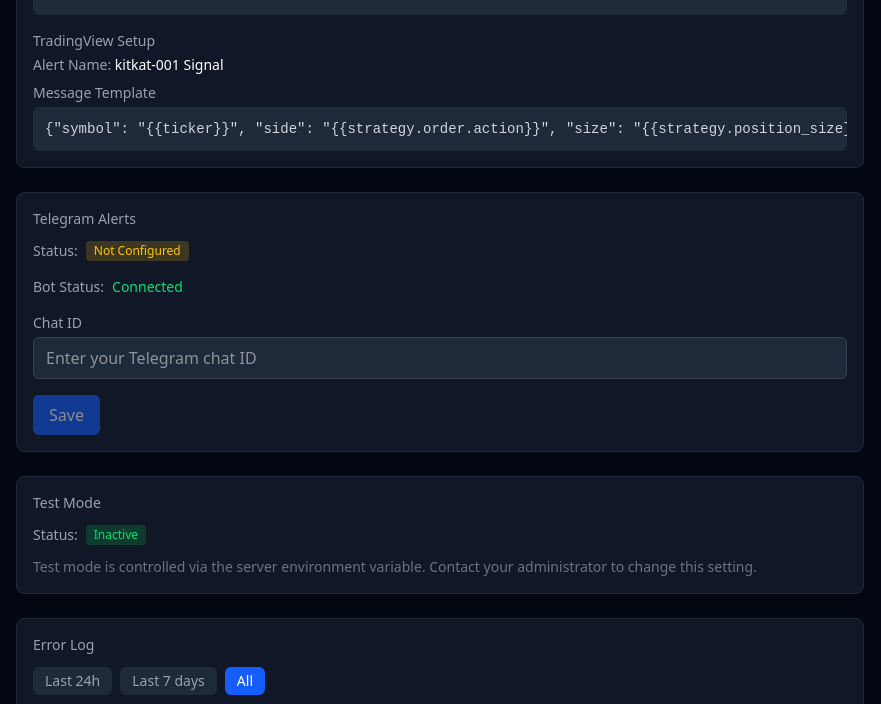
SettingsPage - Telegram Alerts › shows success message on successful telegram save
The width and height of the screenshot is (881, 704).
(page scrolled)
Type "123" into the field labelled "Chat ID" at coordinates (440, 358), box x1=33 y1=337 x2=847 y2=379
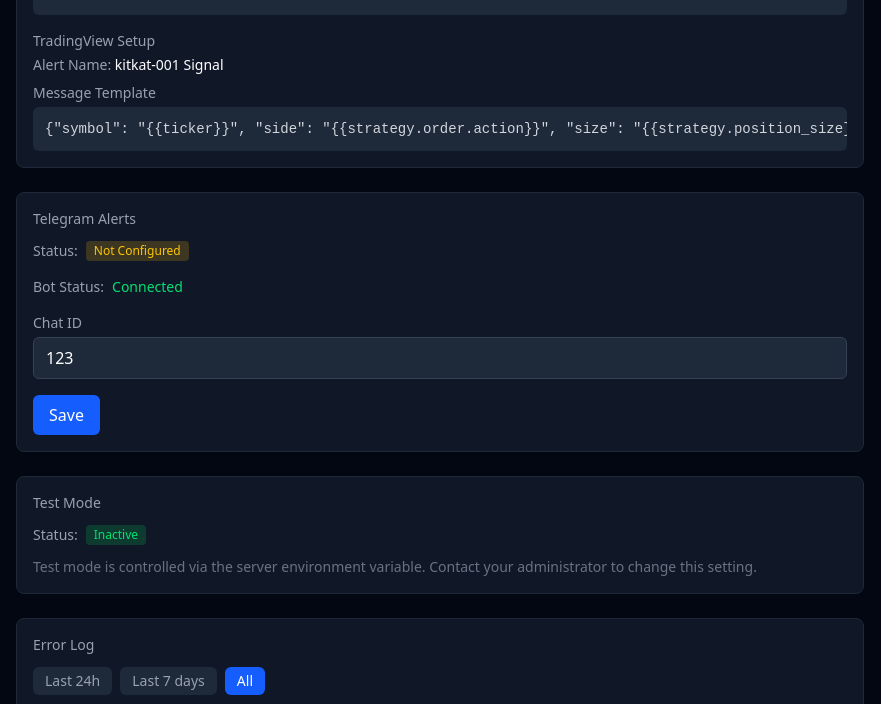
Click the button "Save" at coordinates (66, 415), box x1=33 y1=395 x2=100 y2=435
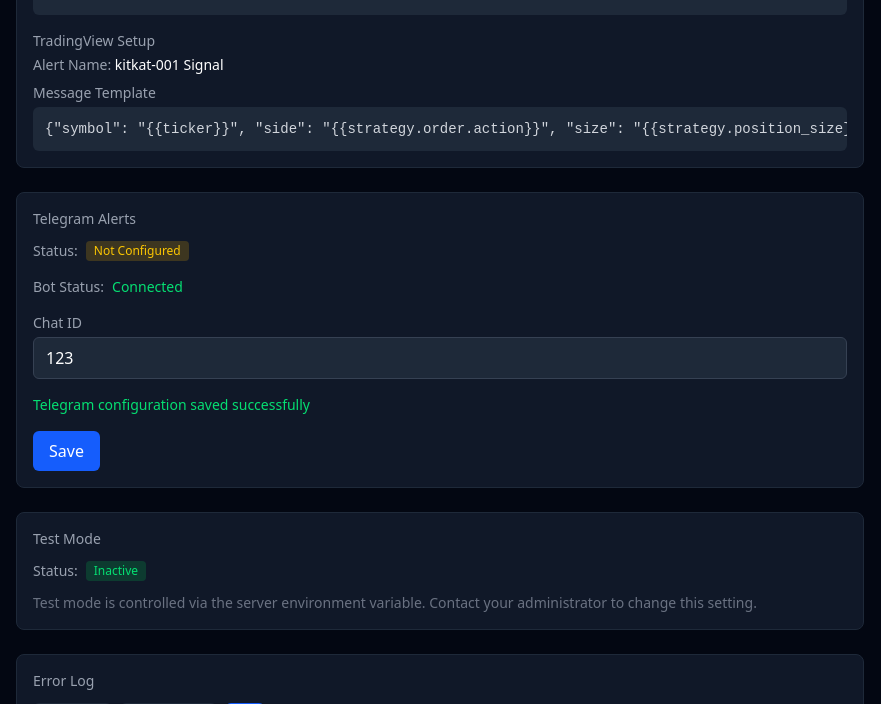
Expected: the text "Telegram configuration saved successfully" is shown, x1=33 y1=395 x2=310 y2=414
